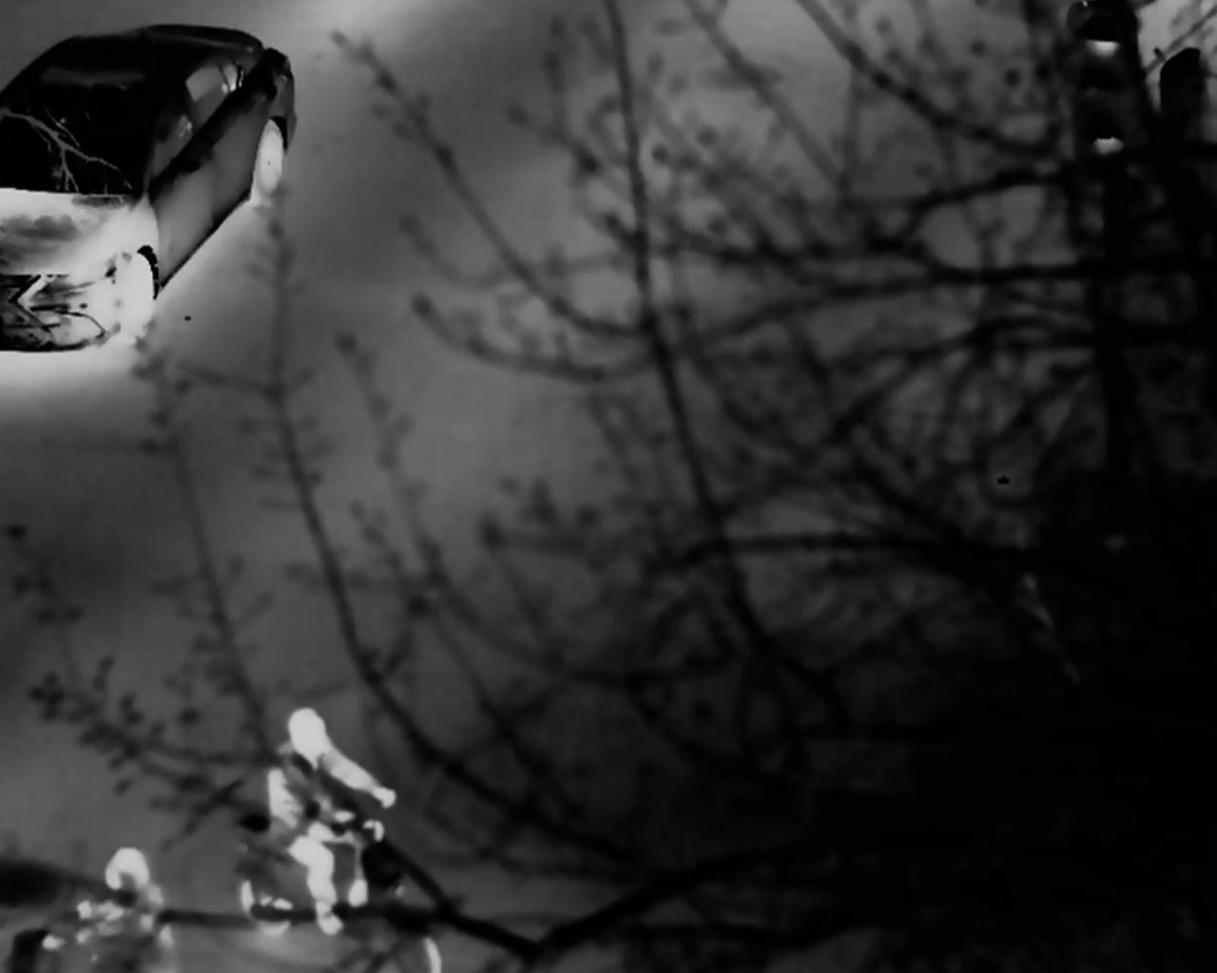person: (269, 699, 398, 926), (80, 849, 182, 959)
